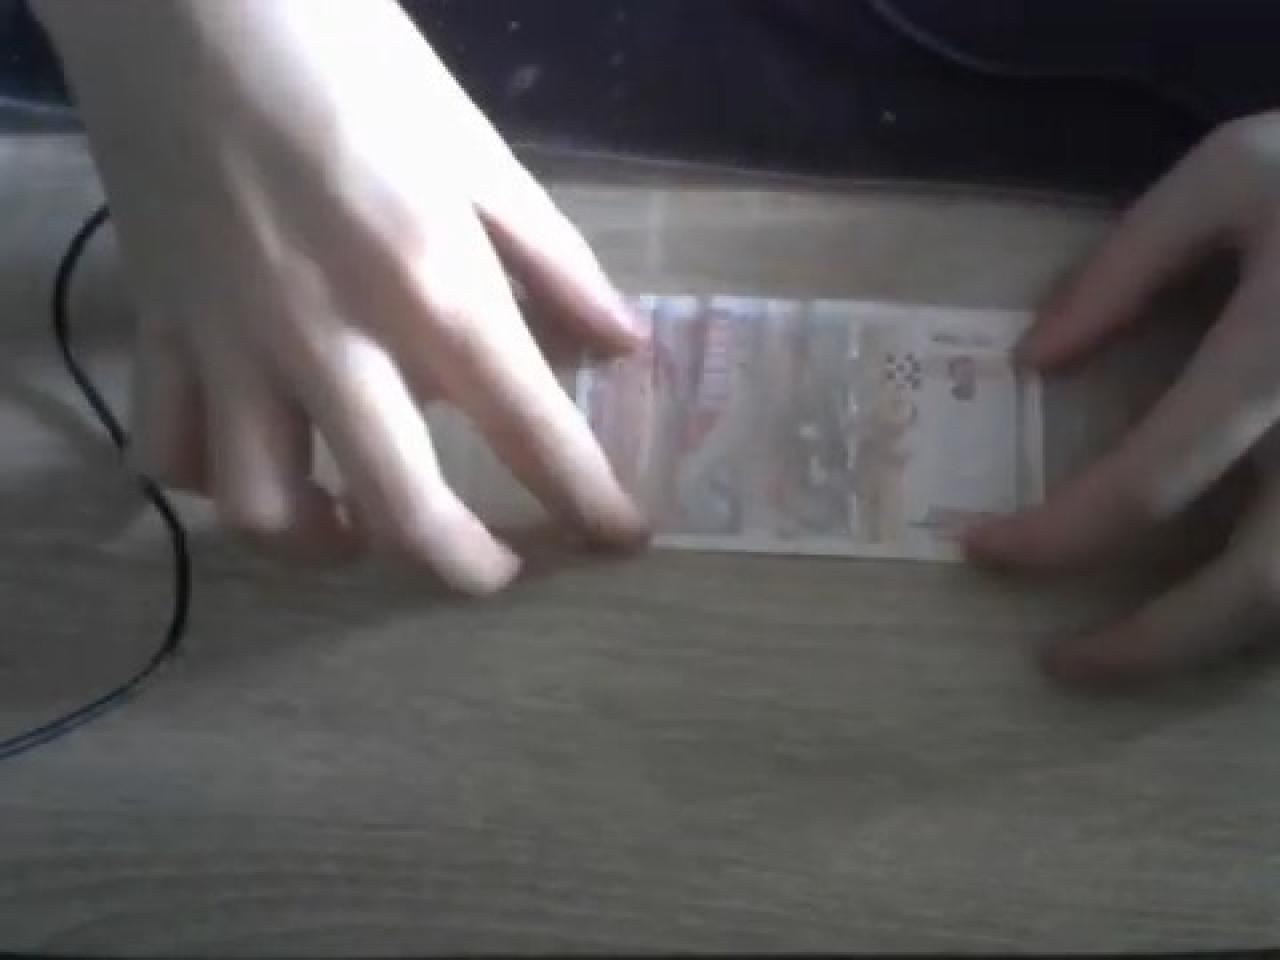5leva: (635, 293, 1064, 560)
